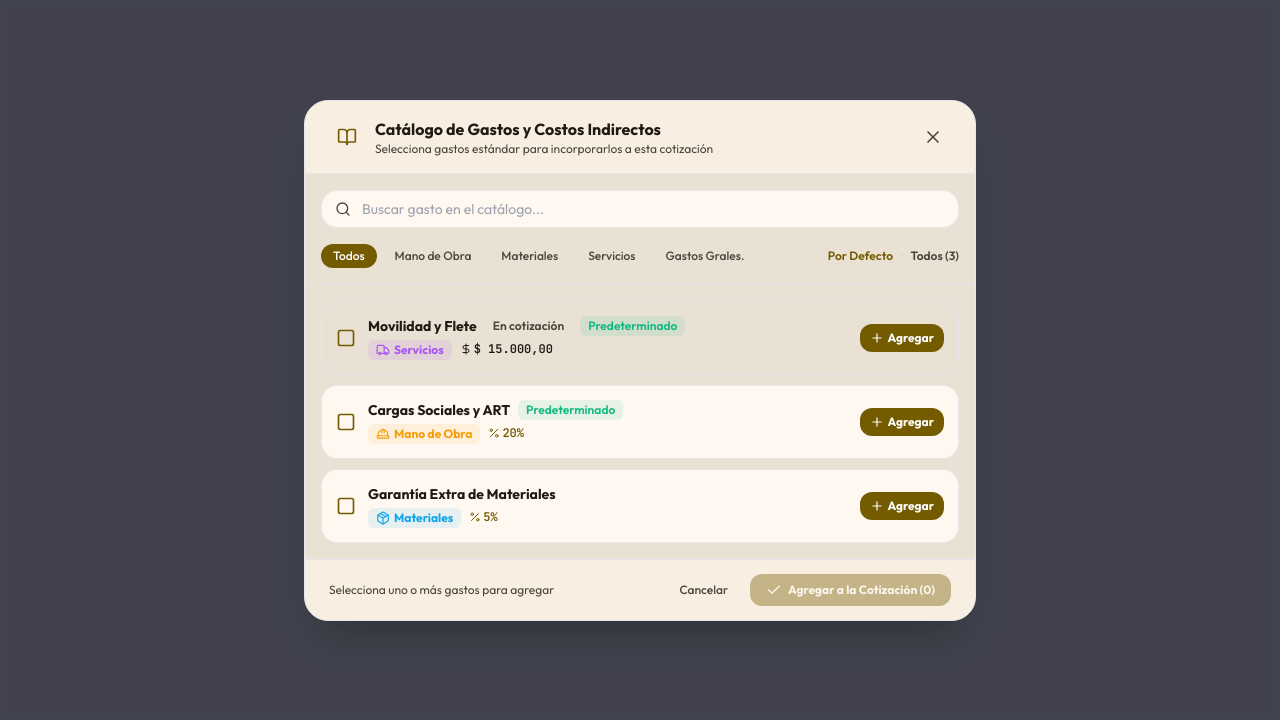
GastoCatalogPickerModal › permite filtrar por término de búsqueda
Type "Cargas" into the field with placeholder "Buscar gasto en el catálogo...".
click(640, 208); type("Cargas")  # box [321, 190, 959, 228]
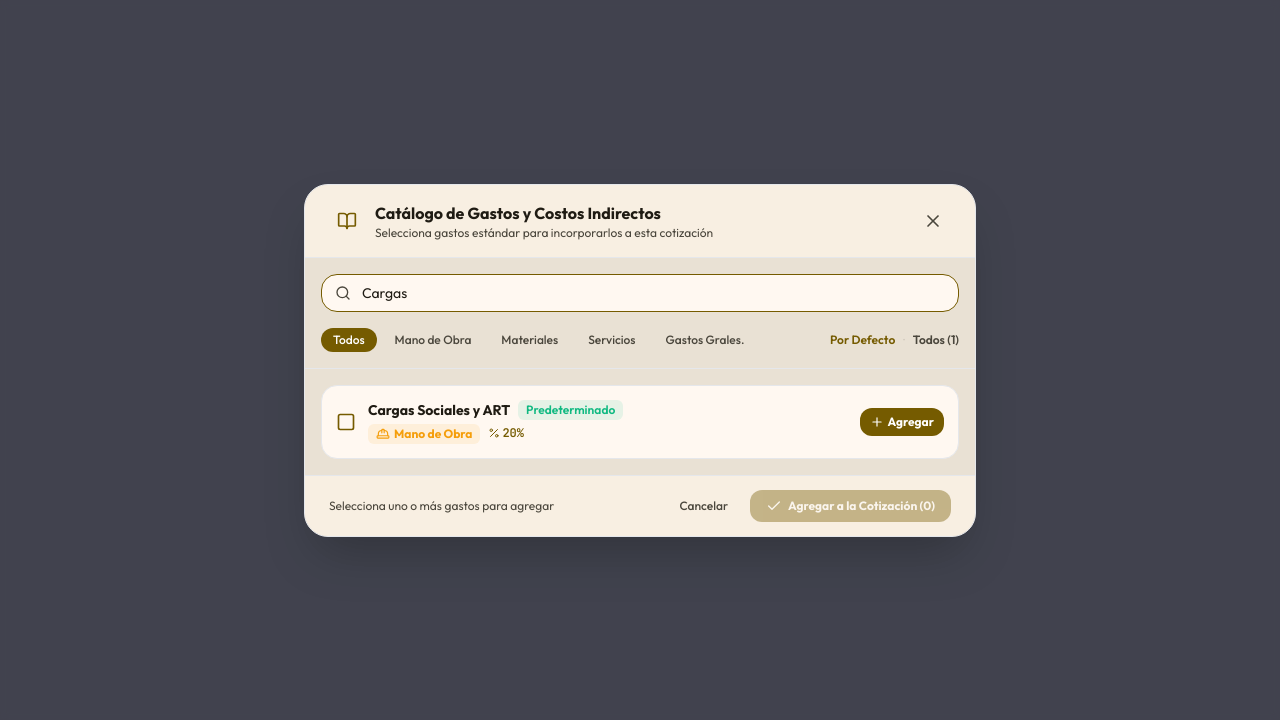
Expected: the text "Cargas Sociales y ART" is shown, [368, 400, 510, 420]
Expected: the text "Movilidad y Flete" is gone
